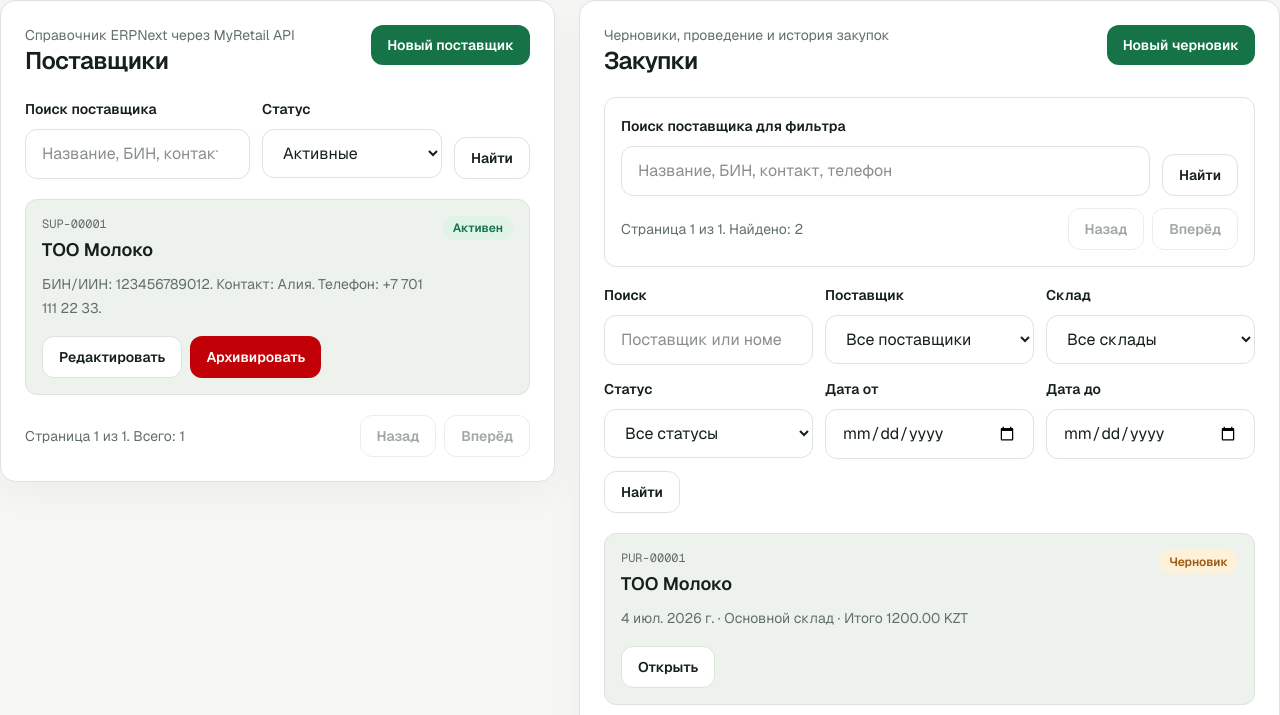
it: PurchaseManager purchase review regressions › warns about duplicate supplier invoice numbers without blocking the draft
Step 1. Click the button "Новый черновик" → (1181, 45), box [1107,25,1255,65]
(page scrolled)
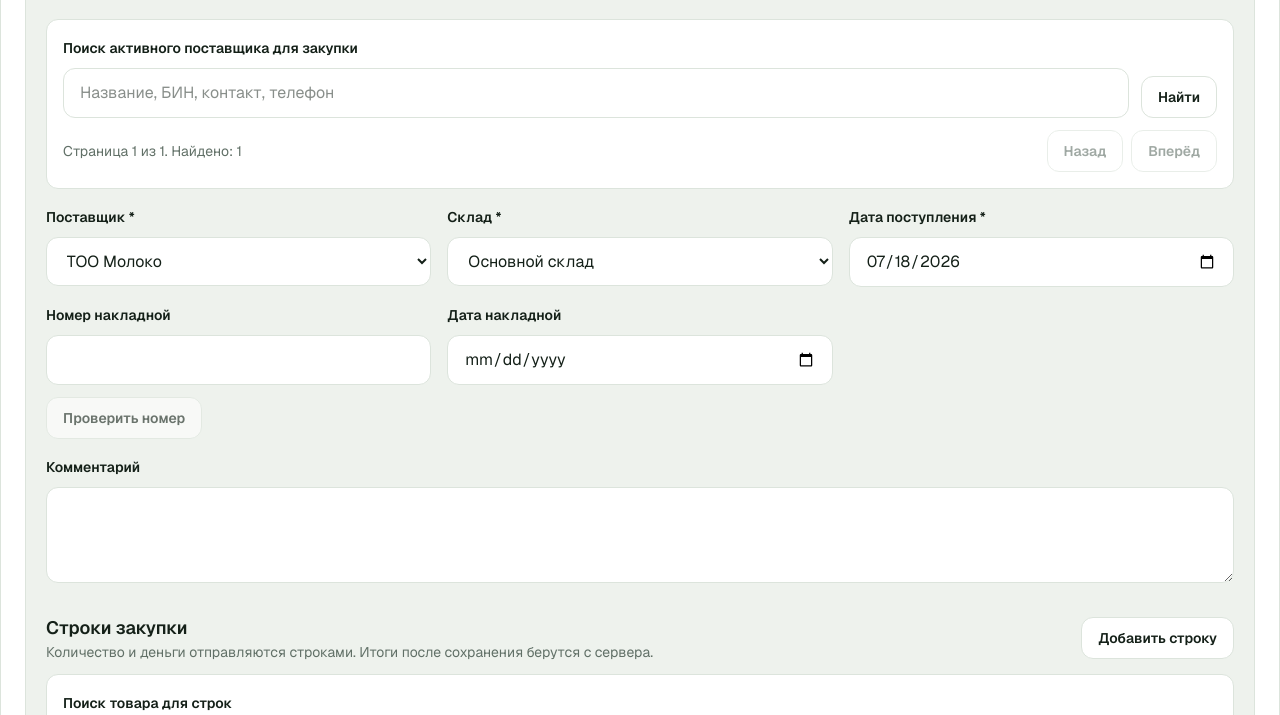
Step 2. Type "INV-42" into the field labelled "Номер накладной" → (239, 360), box [46,335,431,385]
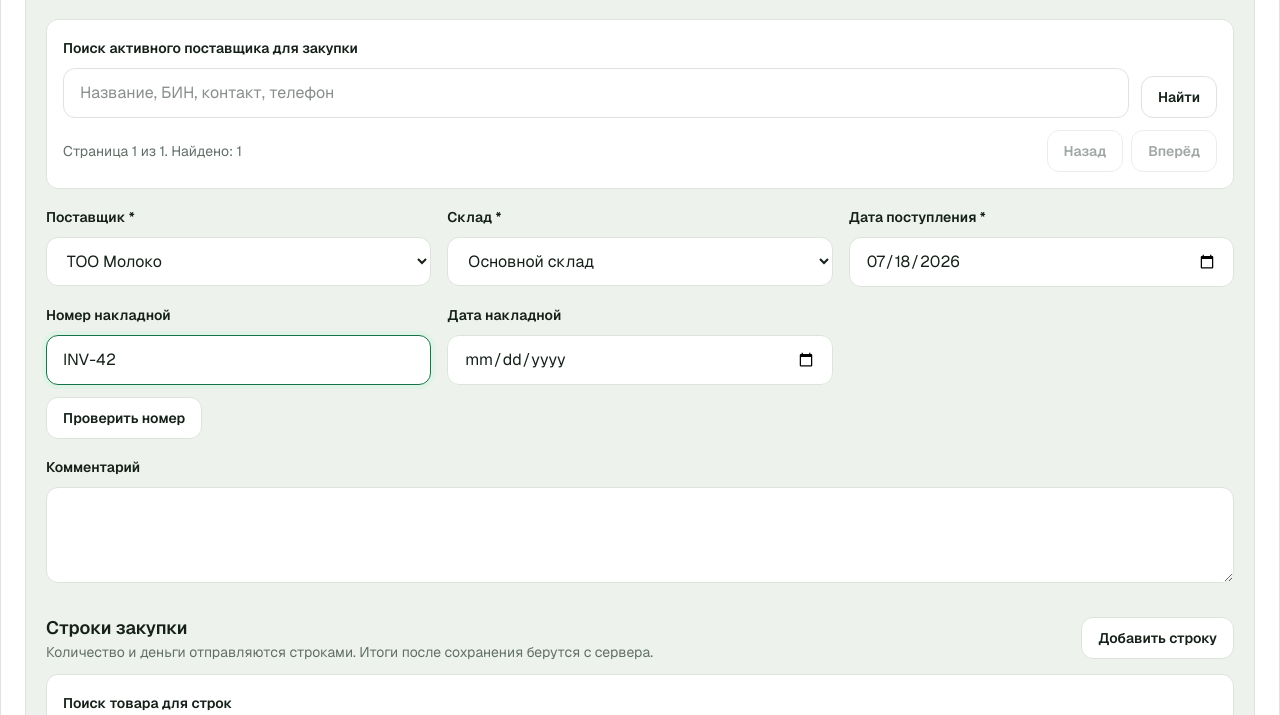
Step 3. Click the button "Проверить номер" → (124, 418), box [46,397,202,439]
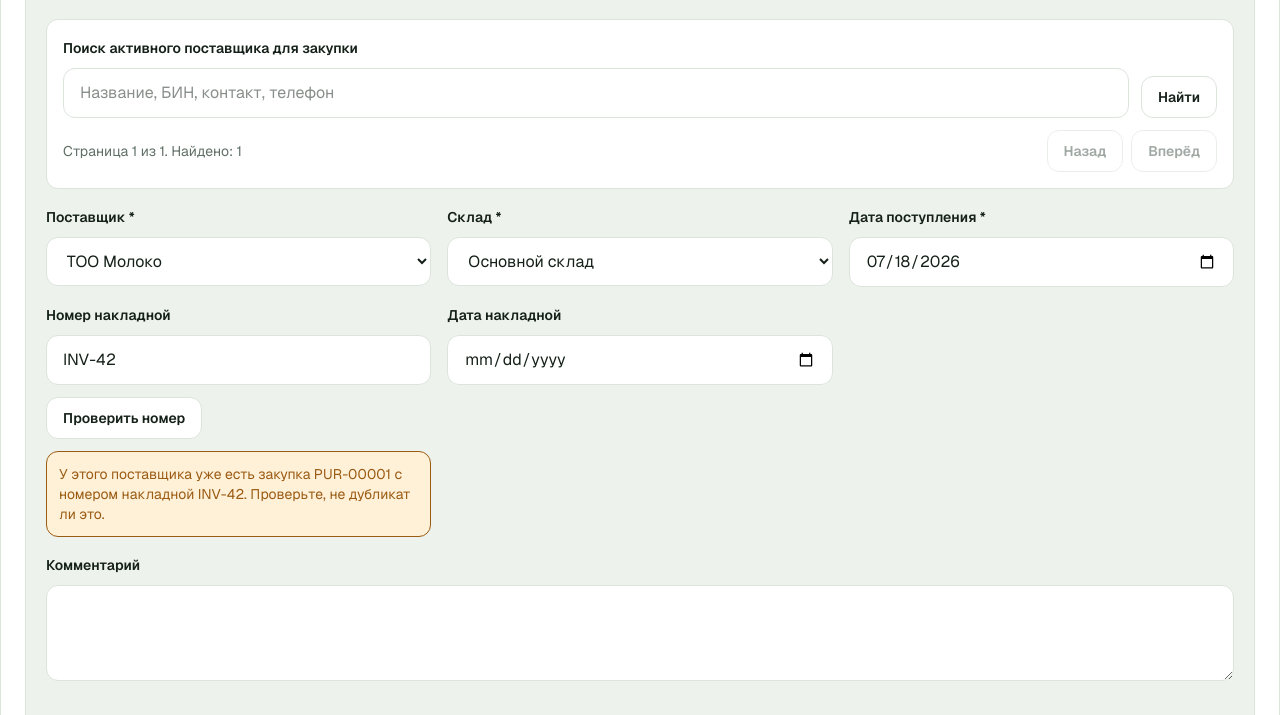
Expected: the text "уже есть закупка PUR-00001 с номером накладной INV-42" is shown, [59,465,410,523]
